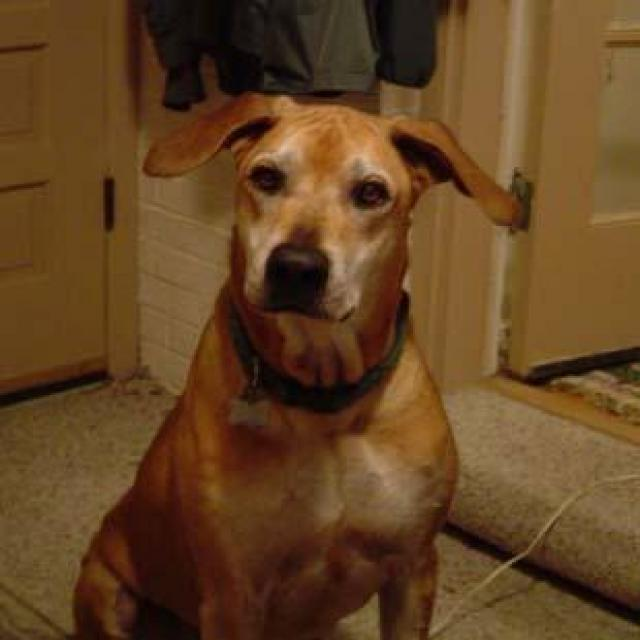sitting: (70, 90, 531, 640)
